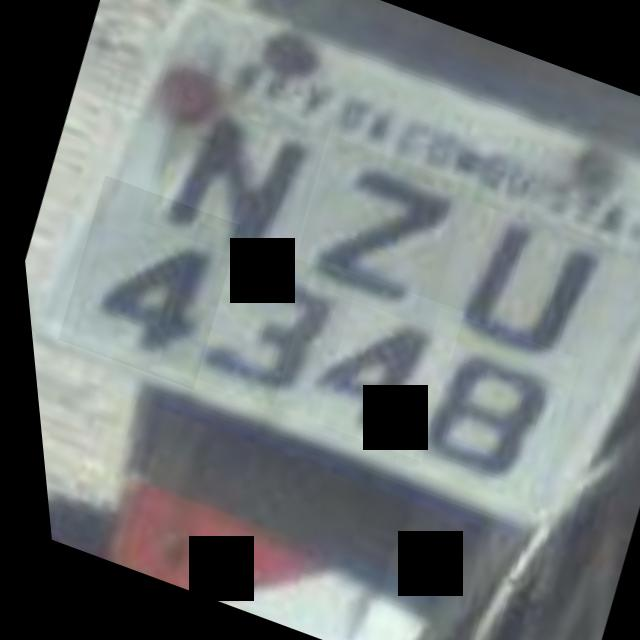3: (140, 222, 363, 423)
4: (39, 176, 249, 390), (254, 258, 469, 462)
8: (374, 308, 585, 516)
N: (123, 67, 341, 276)
U: (410, 183, 629, 388)
Z: (274, 135, 477, 329)
